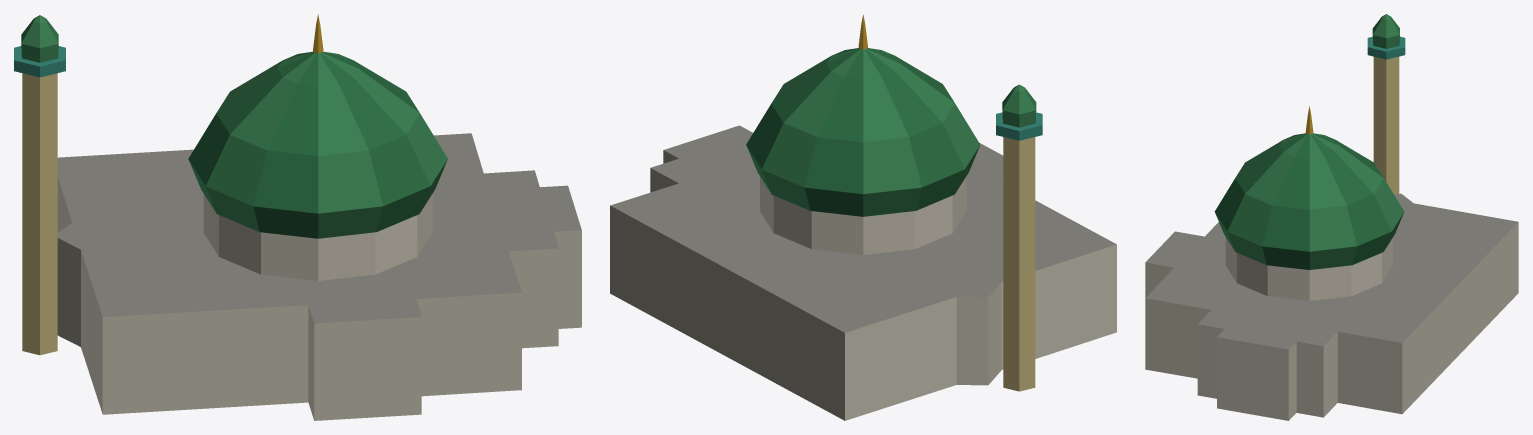
Rendered from masjid-raya-senapelan-lod1.glb.
The picture shows the model from 3 angles, left to right: view 1: azimuth 30°, elevation 25°; view 2: azimuth 150°, elevation 25°; view 3: azimuth 270°, elevation 25°; orthographic projection. The views are drawn at different scales.
Visible parts, largest first — view 1: masjid-raya-senapelan_LOD1; view 2: masjid-raya-senapelan_LOD1; view 3: masjid-raya-senapelan_LOD1.
Part boxes in pixels (x1,y1,x2,y2): masjid-raya-senapelan_LOD1: (14, 14, 581, 420); masjid-raya-senapelan_LOD1: (610, 15, 1116, 420); masjid-raya-senapelan_LOD1: (1145, 14, 1518, 420).
Size of the model in its own units: 47.01 by 30.6 by 42.7.
